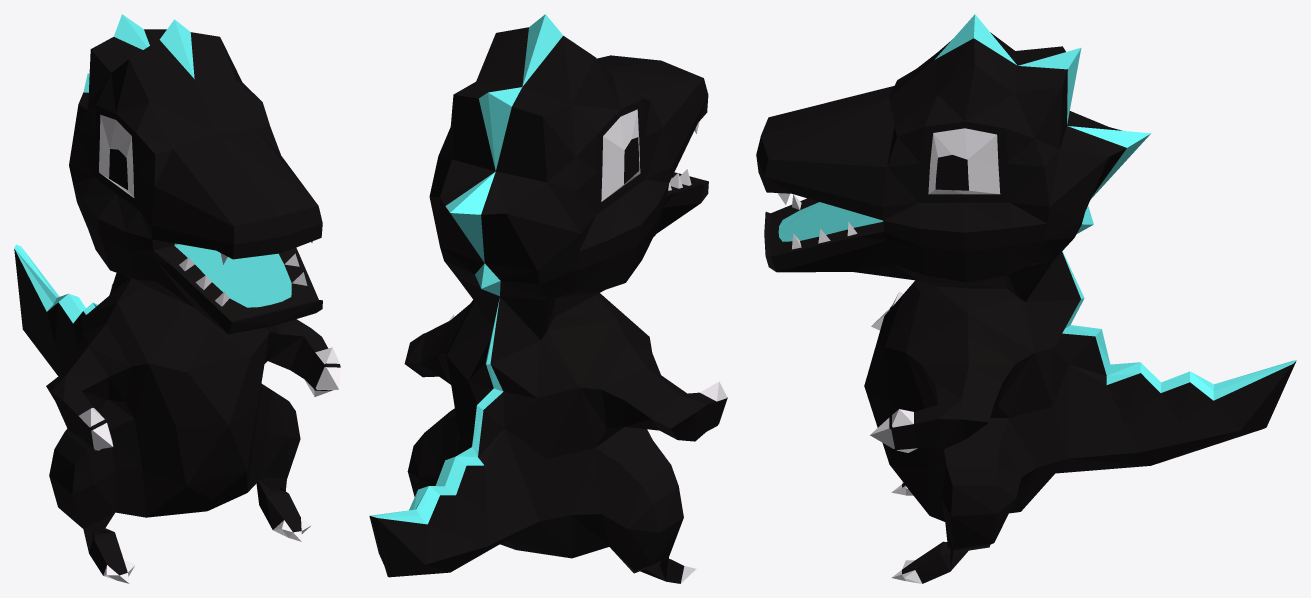
File: zilla_000001.obj
3 renders of one model, left to right at view 1: azimuth 30°, elevation 25°; view 2: azimuth 150°, elevation 25°; view 3: azimuth 270°, elevation 25°, orthographic. The views are drawn at different scales.
Visible parts, largest first — view 1: Body_Cube; view 2: Body_Cube; view 3: Body_Cube.
Part boxes in pixels (x1,y1,x2,y2): Body_Cube: (14, 14, 340, 583); Body_Cube: (369, 14, 727, 583); Body_Cube: (756, 14, 1296, 583).
Bounding box in the file's own units: 2.22 × 4.19 × 3.93.
Materials: 1 (1 with a texture image).
